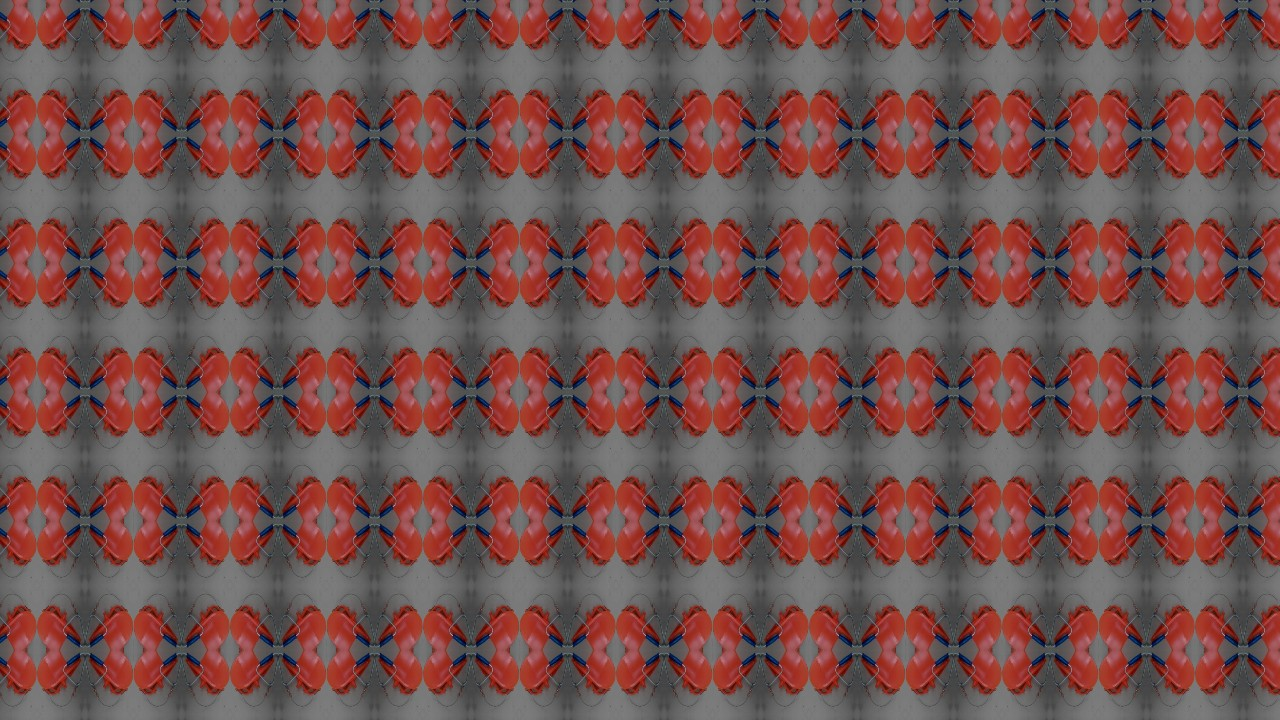chock: (34, 4, 82, 50), (83, 4, 131, 50), (131, 4, 179, 50), (180, 4, 228, 50), (228, 4, 276, 50), (277, 4, 325, 50), (325, 4, 373, 50), (374, 4, 422, 50), (422, 4, 470, 50), (471, 4, 519, 50), (519, 4, 567, 50), (568, 4, 616, 50), (616, 4, 664, 50), (665, 4, 713, 50), (713, 4, 761, 50), (762, 4, 810, 50), (810, 4, 858, 50), (859, 4, 907, 50), (907, 4, 955, 50), (956, 4, 1004, 50), (1004, 4, 1052, 50), (1053, 4, 1101, 50), (1101, 4, 1149, 50), (1150, 4, 1198, 50), (1198, 4, 1246, 50), (34, 87, 82, 133), (83, 87, 131, 133), (131, 87, 179, 133), (180, 87, 228, 133), (228, 87, 276, 133), (277, 87, 325, 133), (325, 87, 373, 133), (374, 87, 422, 133), (422, 87, 470, 133), (471, 87, 519, 133), (519, 87, 567, 133), (568, 87, 616, 133), (616, 87, 664, 133), (665, 87, 713, 133), (713, 87, 761, 133), (762, 87, 810, 133), (810, 87, 858, 133), (859, 87, 907, 133), (907, 87, 955, 133), (956, 87, 1004, 133), (1004, 87, 1052, 133), (1053, 87, 1101, 133), (1101, 87, 1149, 133), (1150, 87, 1198, 133), (1198, 87, 1246, 133), (34, 133, 82, 179), (83, 133, 131, 179), (131, 133, 179, 179), (180, 133, 228, 179), (228, 133, 276, 179), (277, 133, 325, 179), (325, 133, 373, 179), (374, 133, 422, 179), (422, 133, 470, 179), (471, 133, 519, 179), (519, 133, 567, 179), (568, 133, 616, 179), (616, 133, 664, 179), (665, 133, 713, 179), (713, 133, 761, 179), (762, 133, 810, 179), (810, 133, 858, 179), (859, 133, 907, 179), (907, 133, 955, 179), (956, 133, 1004, 179), (1004, 133, 1052, 179), (1053, 133, 1101, 179), (1101, 133, 1149, 179), (1150, 133, 1198, 179), (1198, 133, 1246, 179), (34, 217, 82, 263), (83, 217, 131, 263), (131, 217, 179, 263), (180, 217, 228, 263), (228, 217, 276, 263), (277, 217, 325, 263), (325, 217, 373, 263), (374, 217, 422, 263), (422, 217, 470, 263), (471, 217, 519, 263), (519, 217, 567, 263), (568, 217, 616, 263), (616, 217, 664, 263), (665, 217, 713, 263), (713, 217, 761, 263), (762, 217, 810, 263), (810, 217, 858, 263), (859, 217, 907, 263), (907, 217, 955, 263), (956, 217, 1004, 263), (1004, 217, 1052, 263), (1053, 217, 1101, 263), (1101, 217, 1149, 263), (1150, 217, 1198, 263), (1198, 217, 1246, 263), (34, 263, 82, 309), (83, 263, 131, 309), (131, 263, 179, 309), (180, 263, 228, 309), (228, 263, 276, 309), (277, 263, 325, 309), (325, 263, 373, 309), (374, 263, 422, 309), (422, 263, 470, 309), (471, 263, 519, 309), (519, 263, 567, 309), (568, 263, 616, 309), (616, 263, 664, 309), (665, 263, 713, 309), (713, 263, 761, 309), (762, 263, 810, 309), (810, 263, 858, 309), (859, 263, 907, 309), (907, 263, 955, 309), (956, 263, 1004, 309), (1004, 263, 1052, 309), (1053, 263, 1101, 309), (1101, 263, 1149, 309), (1150, 263, 1198, 309), (1198, 263, 1246, 309), (34, 346, 82, 392), (83, 346, 131, 392), (131, 346, 179, 392), (180, 346, 228, 392), (228, 346, 276, 392), (277, 346, 325, 392), (325, 346, 373, 392), (374, 346, 422, 392), (422, 346, 470, 392), (471, 346, 519, 392), (519, 346, 567, 392), (568, 346, 616, 392), (616, 346, 664, 392), (665, 346, 713, 392), (713, 346, 761, 392), (762, 346, 810, 392), (810, 346, 858, 392), (859, 346, 907, 392), (907, 346, 955, 392), (956, 346, 1004, 392), (1004, 346, 1052, 392), (1053, 346, 1101, 392), (1101, 346, 1149, 392), (1150, 346, 1198, 392), (1198, 346, 1246, 392), (34, 392, 82, 438), (83, 392, 131, 438), (131, 392, 179, 438), (180, 392, 228, 438), (228, 392, 276, 438), (277, 392, 325, 438), (325, 392, 373, 438), (374, 392, 422, 438), (422, 392, 470, 438), (471, 392, 519, 438), (519, 392, 567, 438), (568, 392, 616, 438), (616, 392, 664, 438), (665, 392, 713, 438), (713, 392, 761, 438), (762, 392, 810, 438), (810, 392, 858, 438), (859, 392, 907, 438), (907, 392, 955, 438), (956, 392, 1004, 438), (1004, 392, 1052, 438), (1053, 392, 1101, 438), (1101, 392, 1149, 438), (1150, 392, 1198, 438), (1198, 392, 1246, 438), (34, 476, 82, 522), (83, 476, 131, 522), (131, 476, 179, 522), (180, 476, 228, 522), (228, 476, 276, 522), (277, 476, 325, 522), (325, 476, 373, 522), (374, 476, 422, 522), (422, 476, 470, 522), (471, 476, 519, 522), (519, 476, 567, 522), (568, 476, 616, 522), (616, 476, 664, 522), (665, 476, 713, 522), (713, 476, 761, 522), (762, 476, 810, 522), (810, 476, 858, 522), (859, 476, 907, 522), (907, 476, 955, 522), (956, 476, 1004, 522), (1004, 476, 1052, 522), (1053, 476, 1101, 522), (1101, 476, 1149, 522), (1150, 476, 1198, 522), (1198, 476, 1246, 522), (34, 522, 82, 568), (83, 522, 131, 568), (131, 522, 179, 568), (180, 522, 228, 568), (228, 522, 276, 568), (277, 522, 325, 568), (325, 522, 373, 568), (374, 522, 422, 568), (422, 522, 470, 568), (471, 522, 519, 568), (519, 522, 567, 568), (568, 522, 616, 568), (616, 522, 664, 568), (665, 522, 713, 568), (713, 522, 761, 568), (762, 522, 810, 568), (810, 522, 858, 568), (859, 522, 907, 568), (907, 522, 955, 568), (956, 522, 1004, 568), (1004, 522, 1052, 568), (1053, 522, 1101, 568), (1101, 522, 1149, 568), (1150, 522, 1198, 568), (1198, 522, 1246, 568), (34, 605, 82, 651), (83, 605, 131, 651), (131, 605, 179, 651), (180, 605, 228, 651), (228, 605, 276, 651), (277, 605, 325, 651), (325, 605, 373, 651), (374, 605, 422, 651), (422, 605, 470, 651), (471, 605, 519, 651), (519, 605, 567, 651), (568, 605, 616, 651), (616, 605, 664, 651), (665, 605, 713, 651), (713, 605, 761, 651), (762, 605, 810, 651), (810, 605, 858, 651), (859, 605, 907, 651), (907, 605, 955, 651), (956, 605, 1004, 651), (1004, 605, 1052, 651), (1053, 605, 1101, 651), (1101, 605, 1149, 651), (1150, 605, 1198, 651), (1198, 605, 1246, 651), (34, 651, 82, 697), (83, 651, 131, 697), (131, 651, 179, 697), (180, 651, 228, 697), (228, 651, 276, 697), (277, 651, 325, 697), (325, 651, 373, 697), (374, 651, 422, 697), (422, 651, 470, 697), (471, 651, 519, 697), (519, 651, 567, 697), (568, 651, 616, 697), (616, 651, 664, 697), (665, 651, 713, 697), (713, 651, 761, 697), (762, 651, 810, 697), (810, 651, 858, 697), (859, 651, 907, 697), (907, 651, 955, 697), (956, 651, 1004, 697), (1004, 651, 1052, 697), (1053, 651, 1101, 697), (1101, 651, 1149, 697), (1150, 651, 1198, 697), (1198, 651, 1246, 697), (0, 4, 34, 50), (0, 87, 34, 133), (0, 133, 34, 179), (0, 217, 34, 263), (0, 263, 34, 309), (0, 346, 34, 392), (0, 392, 34, 438), (0, 476, 34, 522), (0, 522, 34, 568), (0, 605, 34, 651), (0, 651, 34, 697), (1247, 4, 1280, 50), (1247, 87, 1280, 133), (1247, 133, 1280, 179), (1247, 217, 1280, 263), (1247, 263, 1280, 309), (1247, 346, 1280, 392), (1247, 392, 1280, 438), (1247, 476, 1280, 522), (1247, 522, 1280, 568), (1247, 605, 1280, 651), (1247, 651, 1280, 697), (34, 0, 82, 4), (83, 0, 131, 4), (131, 0, 179, 4), (180, 0, 228, 4), (228, 0, 276, 4), (277, 0, 325, 4), (325, 0, 373, 4), (374, 0, 422, 4), (422, 0, 470, 4), (471, 0, 519, 4), (519, 0, 567, 4), (568, 0, 616, 4), (616, 0, 664, 4), (665, 0, 713, 4), (713, 0, 761, 4), (762, 0, 810, 4), (810, 0, 858, 4), (859, 0, 907, 4), (907, 0, 955, 4), (956, 0, 1004, 4), (1004, 0, 1052, 4), (1053, 0, 1101, 4), (1101, 0, 1149, 4), (1150, 0, 1198, 4), (1198, 0, 1246, 4), (0, 0, 34, 4), (1247, 0, 1280, 4)
